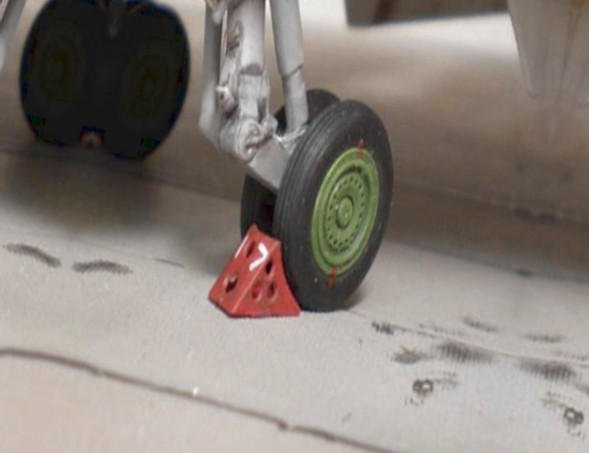chock: (203, 215, 317, 330)
wheel: (257, 89, 412, 324), (90, 0, 205, 174), (2, 0, 117, 156)
